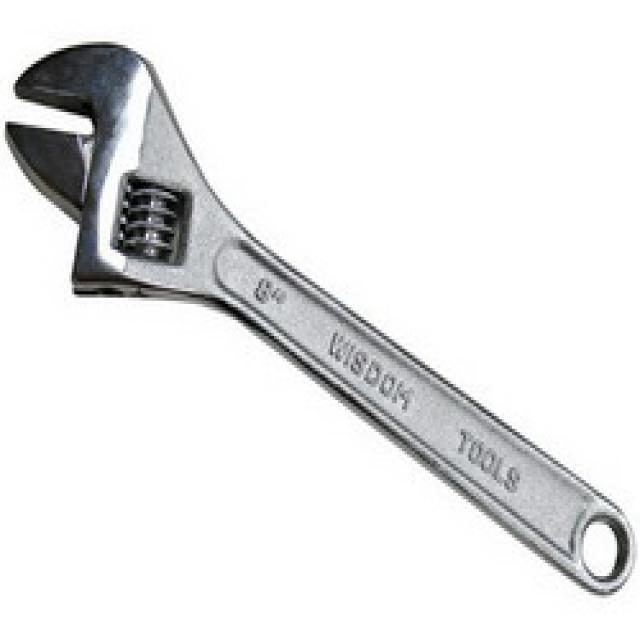wrench: (0, 31, 640, 602)
